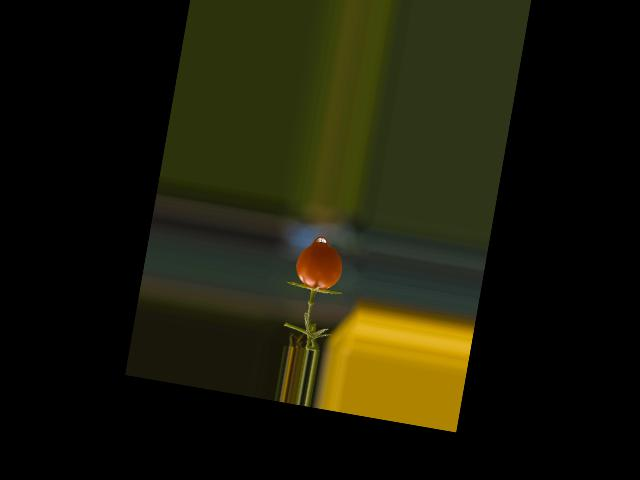tomato: (292, 240, 345, 292)
